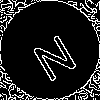N: (25, 25, 80, 84)
